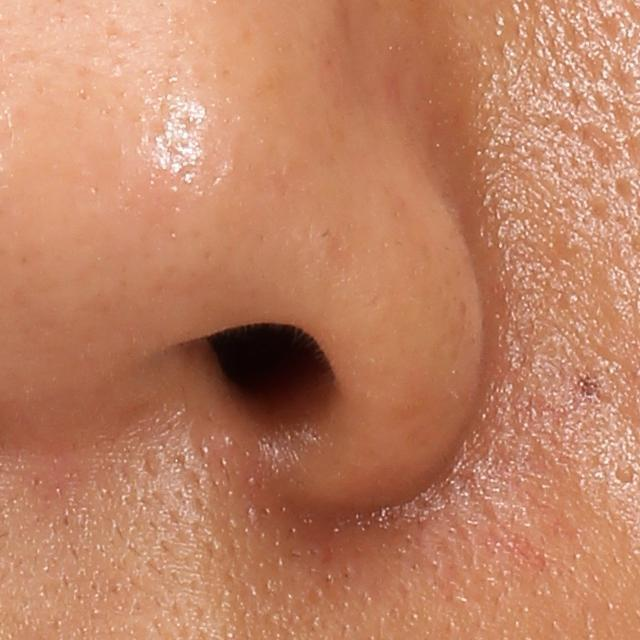atrophic_scar: (573, 126, 622, 171)
nevus: (576, 375, 600, 400)
